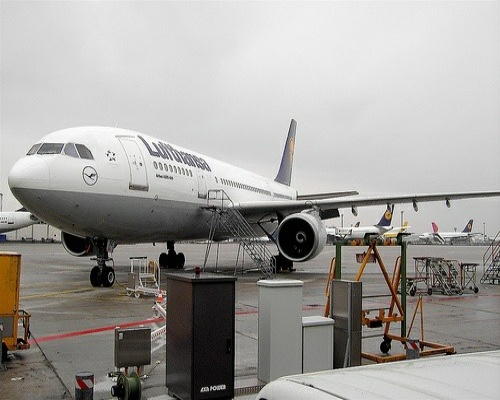plane: (9, 114, 500, 281)
